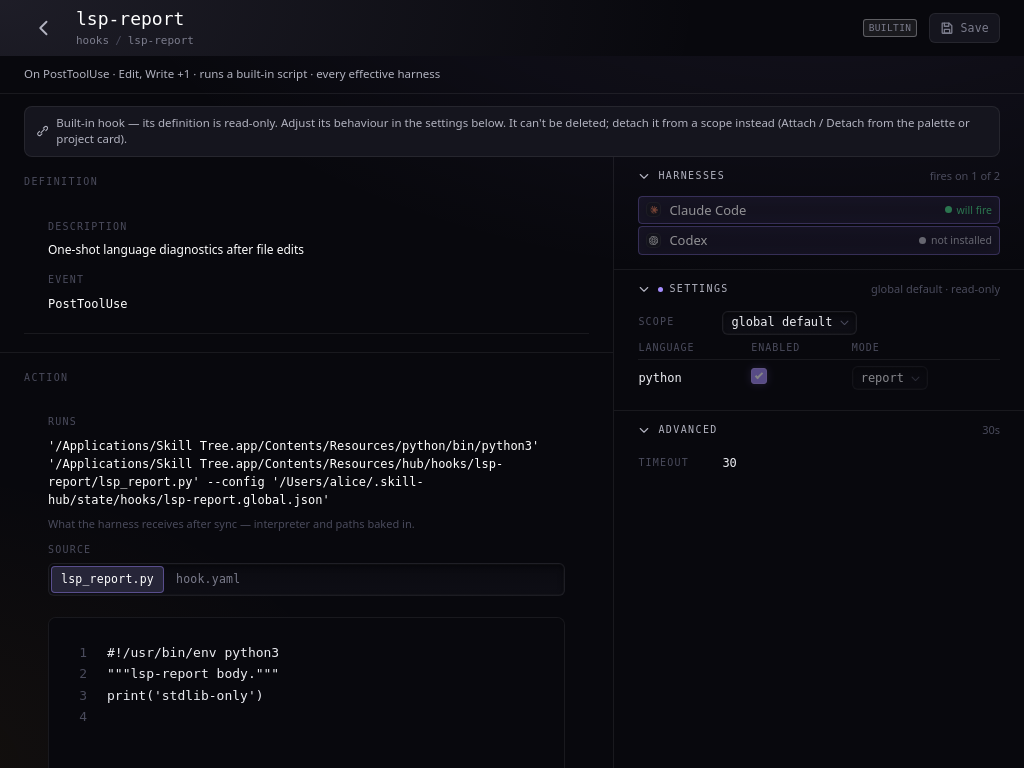
Test: HookEditor — built-in core fields are inert everywhere › switching tabs swaps the displayed body
This screenshot has width=1024, height=768.
Check: the text named "command" is shown, box [48,434,565,510]
Check: the field with class "cm-content" shows "stdlib-only", box [107,688,264,702]
Click the tab "hook.yaml" at (208, 579), box [166,566,250,593]
(page scrolled)
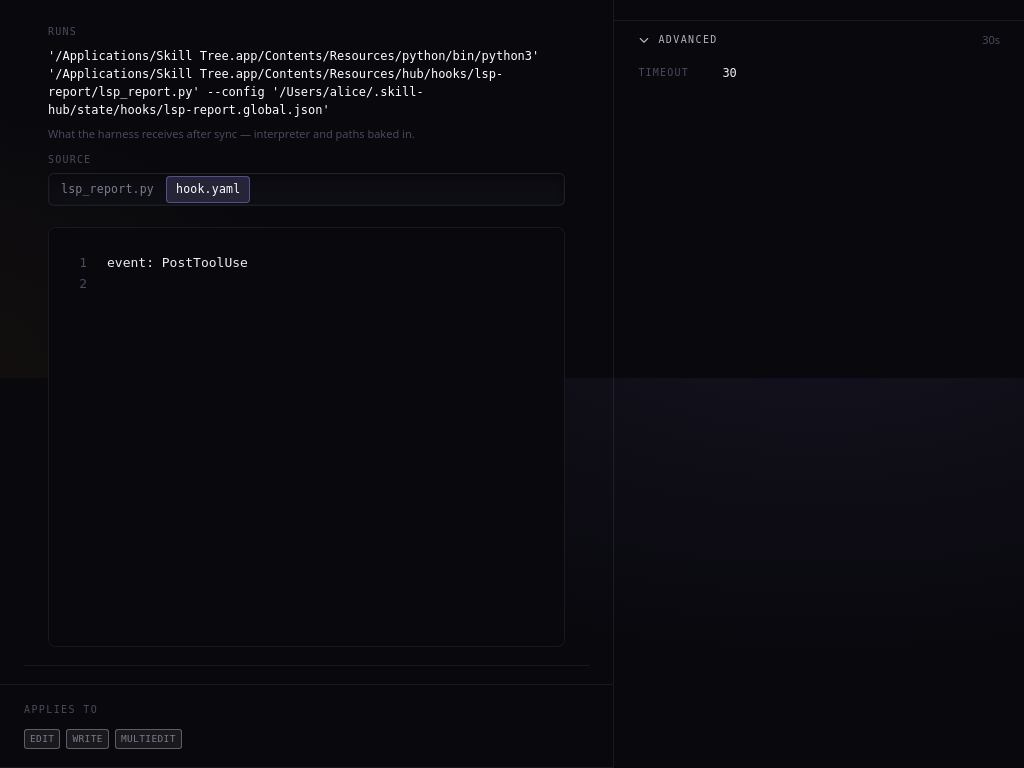
Check: the field with class "cm-content" reads "event: PostToolUse", box [107,255,248,270]
Check: the text with class "cm-content" no longer shows "stdlib-only"
